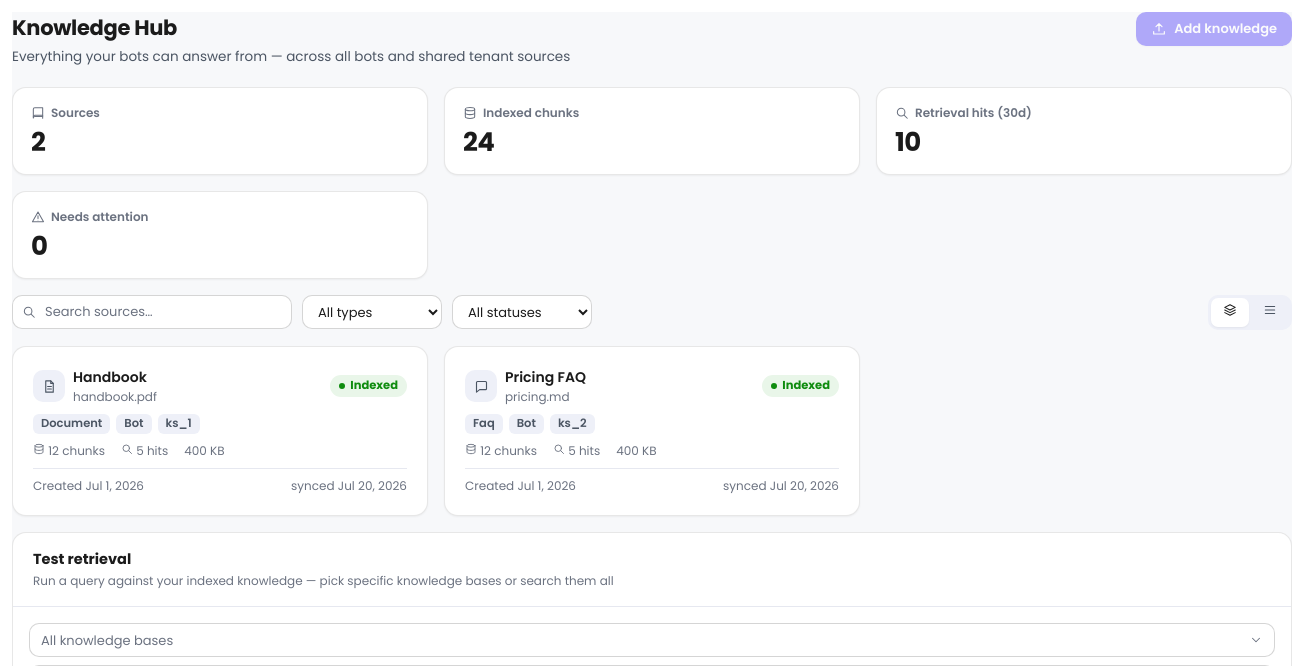
Test: KnowledgeHub — search sources › filters sources by the text search
This screenshot has width=1304, height=666.
Expected: the button with aria-label "Open Handbook" is shown, [12,346,428,516]
Type "pricing" into the field named "Search knowledge sources" at (152, 312), box [12,295,292,329]
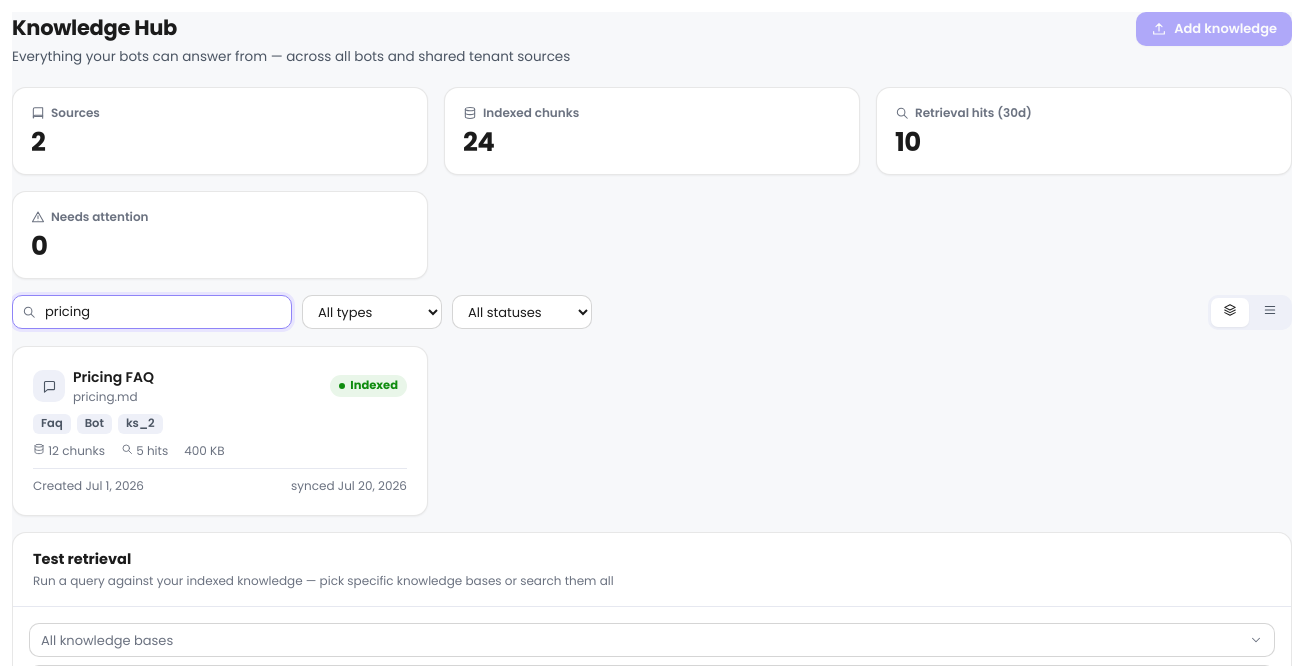
Expected: the button with aria-label "Open Pricing FAQ" is shown, [12,346,428,516]
Now the text "Open Handbook" is gone
